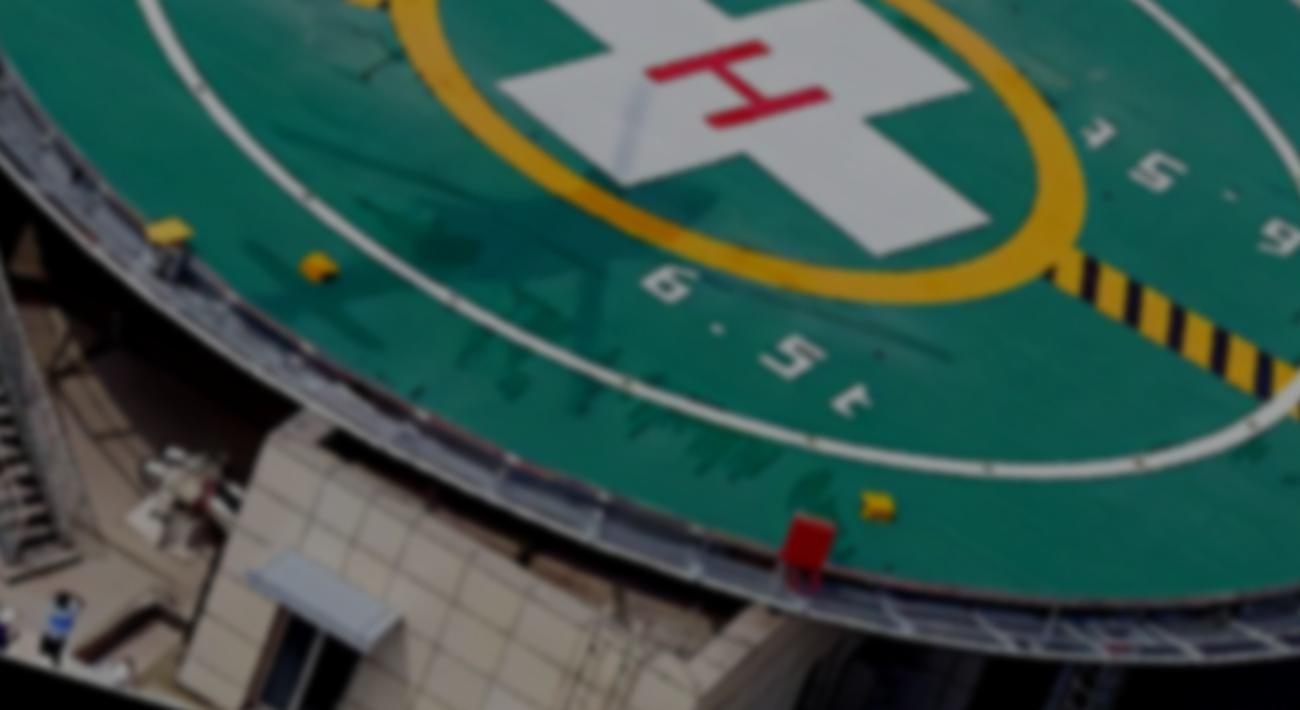Apron: (363, 1, 1093, 310)
